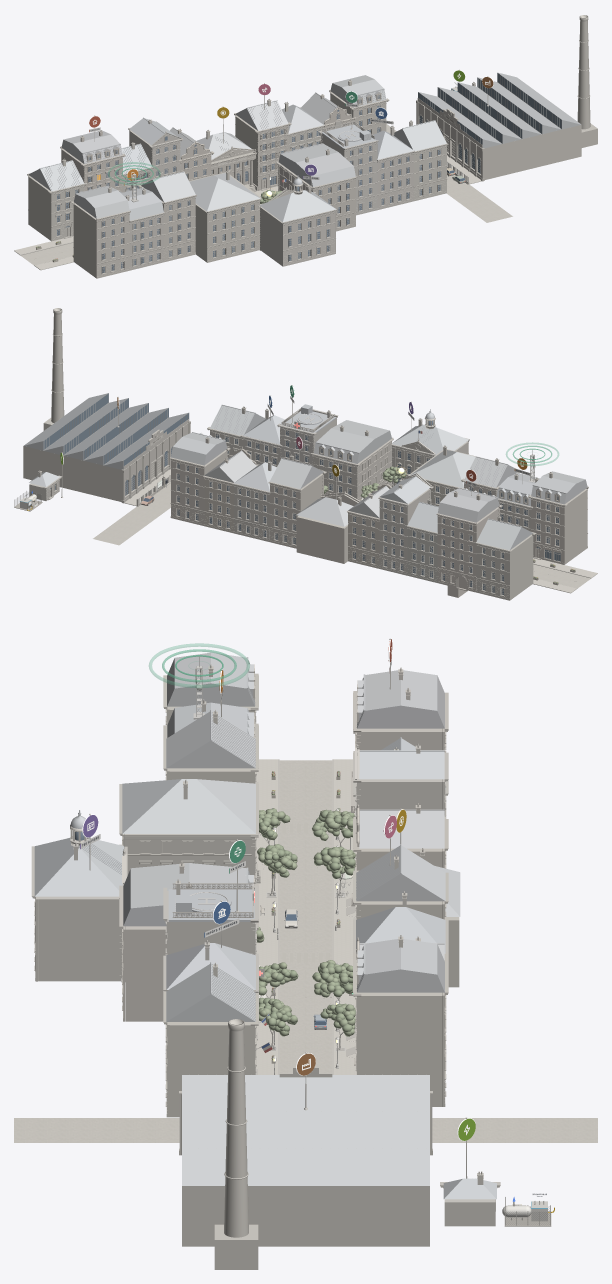
The model's file is ville.glb.
3 views of the same model, one above another, from view 1: azimuth 30°, elevation 25°; view 2: azimuth 150°, elevation 25°; view 3: azimuth 270°, elevation 25° (orthographic). The views are drawn at different scales.
Visible parts, largest first — view 1: M_clay, M_roof, M_glass, M_glassLit, Rue_pavee_2, M_metal, Rue_pavee, Trottoir; view 2: M_clay, M_roof, M_glass, M_glassLit, Rue_pavee_2, M_metal, Rue_pavee, Trottoir.003; view 3: M_roof, M_clay, Rue_pavee, Rue_pavee_2, Trottoir.001, Trottoir, M_ob14_feuilles, M_ob19_feuilles, M_ob12_feuilles, M_ob13_feuilles, M_ob17_feuilles, Energie.
Boxes of the visible parts, left/top/right/bottom form: M_clay: left=20, top=15, right=597, bottom=278; M_roof: left=28, top=72, right=581, bottom=222; M_glass: left=57, top=78, right=541, bottom=272; M_glassLit: left=66, top=73, right=561, bottom=268; Rue_pavee_2: left=386, top=124, right=512, bottom=222; M_metal: left=130, top=75, right=559, bottom=202; Rue_pavee: left=21, top=204, right=260, bottom=265; Trottoir: left=14, top=186, right=278, bottom=254; M_clay: left=23, top=308, right=591, bottom=600; M_roof: left=24, top=393, right=587, bottom=550; M_glass: left=50, top=398, right=560, bottom=594; M_glassLit: left=43, top=393, right=558, bottom=592; Rue_pavee_2: left=93, top=483, right=170, bottom=545; M_metal: left=44, top=401, right=535, bottom=503; Rue_pavee: left=533, top=564, right=590, bottom=587; Trottoir.003: left=124, top=469, right=170, bottom=506; M_roof: left=34, top=652, right=496, bottom=1199; M_clay: left=31, top=664, right=500, bottom=1269; Rue_pavee: left=279, top=760, right=332, bottom=1072; Rue_pavee_2: left=14, top=1118, right=597, bottom=1142; Trottoir.001: left=256, top=759, right=277, bottom=1074; Trottoir: left=334, top=759, right=355, bottom=1074; M_ob14_feuilles: left=312, top=960, right=352, bottom=997; M_ob19_feuilles: left=259, top=997, right=297, bottom=1036; M_ob12_feuilles: left=312, top=809, right=354, bottom=840; M_ob13_feuilles: left=313, top=846, right=355, bottom=878; M_ob17_feuilles: left=257, top=844, right=297, bottom=877; Energie: left=502, top=1193, right=554, bottom=1225.
Size of what is drawn, in the model's own units: 166 by 39.42 by 80.
Materials: 123 (49 with a texture image).
